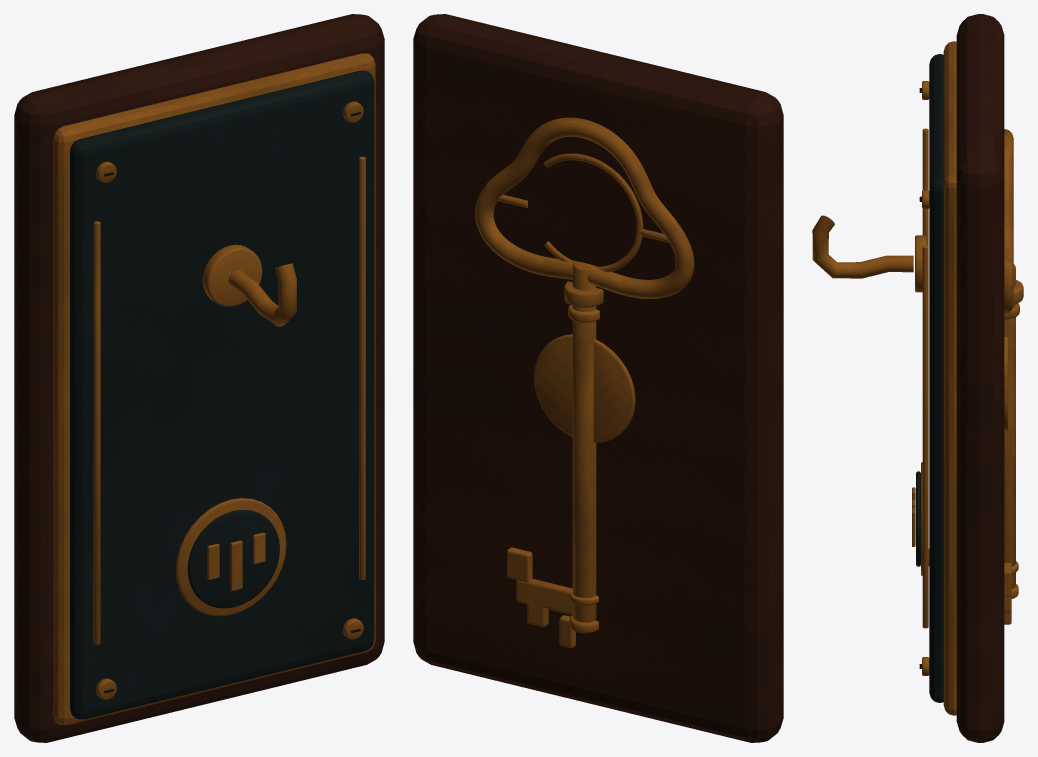
The model's file is brass-key-kit.glb.
3 views of the same model, side by side, from view 1: azimuth 30°, elevation 25°; view 2: azimuth 150°, elevation 25°; view 3: azimuth 270°, elevation 25° (orthographic). The views are drawn at different scales.
Parts seen in each view (by area): view 1: BrassKeyRack_Visual; view 2: BrassKeyRack_Visual, BrassCacheKey_Visual, BrassWardsBadge_Visual; view 3: BrassKeyRack_Visual, BrassCacheKey_Visual, BrassWardsBadge_Visual.
Boxes of the visible parts, x1,y1,x2,y2 form: BrassKeyRack_Visual: (14,14,384,742); BrassKeyRack_Visual: (413,14,783,742); BrassCacheKey_Visual: (475,117,694,648); BrassWardsBadge_Visual: (534,334,635,442); BrassKeyRack_Visual: (812,14,1004,742); BrassCacheKey_Visual: (1004,129,1023,624); BrassWardsBadge_Visual: (1004,337,1007,430).
Bounding box in the file's own units: 0.158 × 0.27 × 0.0884.
Materials: 4 (4 with a texture image).
